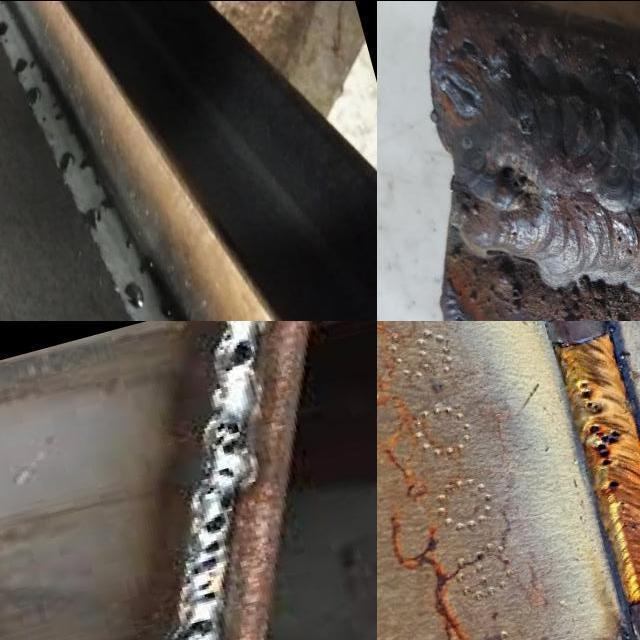defect: (586, 422, 631, 472), (194, 538, 226, 605), (202, 416, 249, 460), (202, 490, 236, 538), (165, 615, 220, 640), (217, 340, 253, 375), (498, 161, 533, 193), (575, 379, 604, 416), (78, 204, 106, 237), (123, 276, 147, 311), (514, 106, 535, 135), (12, 54, 37, 77), (56, 148, 75, 172), (213, 464, 238, 482), (137, 253, 156, 273), (26, 81, 40, 107), (159, 301, 176, 319), (0, 17, 10, 47), (78, 156, 95, 173), (98, 194, 114, 211), (603, 476, 621, 491), (51, 98, 62, 121), (122, 234, 133, 250), (92, 176, 101, 185), (40, 115, 49, 124)
